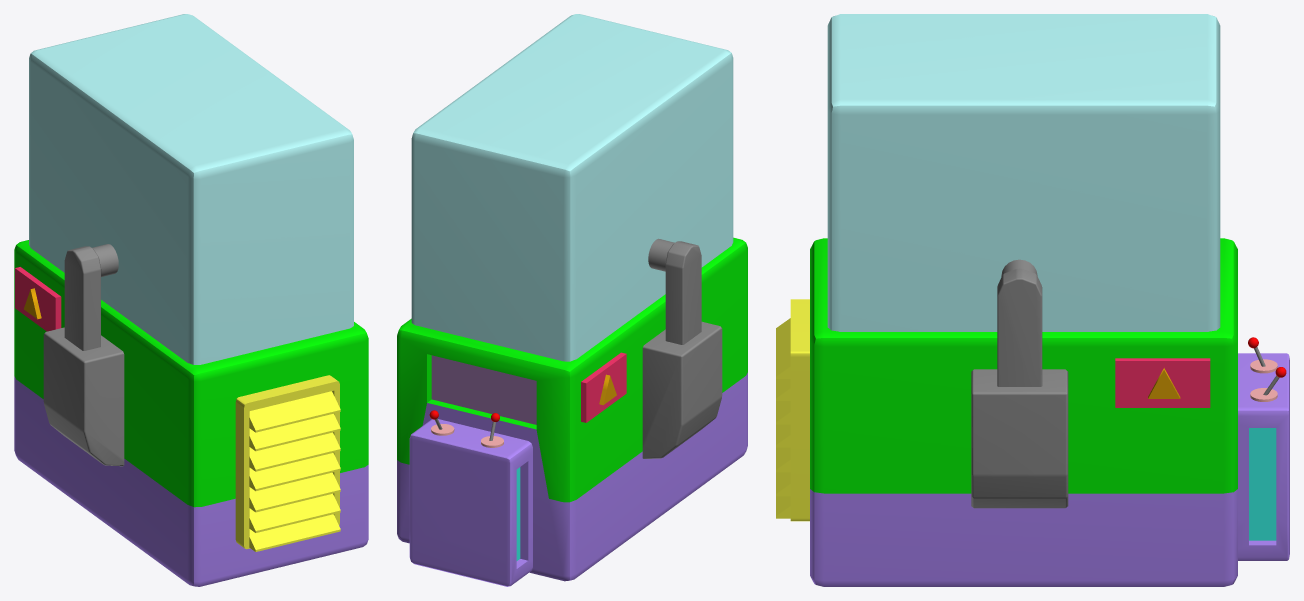
The model's file is Generator 1.fbx.
The picture shows the model from 3 angles, left to right: view 1: azimuth 30°, elevation 25°; view 2: azimuth 150°, elevation 25°; view 3: azimuth 270°, elevation 25°; orthographic projection. The views are drawn at different scales.
Parts seen in each view (by area): view 1: pCube3, pCube1, polySurface1, pCylinder10, polySurface11; view 2: pCube3, pCube1, pCube2, pCylinder10, polySurface11; view 3: pCube3, pCube1, pCylinder10, pCube2, polySurface1, polySurface11.
Boxes of the visible parts, x1,y1,x2,y2 form: pCube3: [29, 14, 353, 364]; pCube1: [14, 240, 368, 586]; polySurface1: [235, 375, 340, 551]; pCylinder10: [43, 244, 124, 466]; polySurface11: [15, 267, 61, 331]; pCube3: [411, 14, 733, 361]; pCube1: [397, 237, 747, 581]; pCube2: [409, 419, 532, 586]; pCylinder10: [642, 238, 722, 458]; polySurface11: [581, 352, 626, 422]; pCube3: [827, 14, 1220, 331]; pCube1: [810, 238, 1237, 586]; pCylinder10: [971, 259, 1068, 508]; pCube2: [1238, 353, 1289, 560]; polySurface1: [776, 299, 809, 521]; polySurface11: [1115, 358, 1210, 407].
Size of the model in its own units: 2.36 by 3.58 by 3.45.
